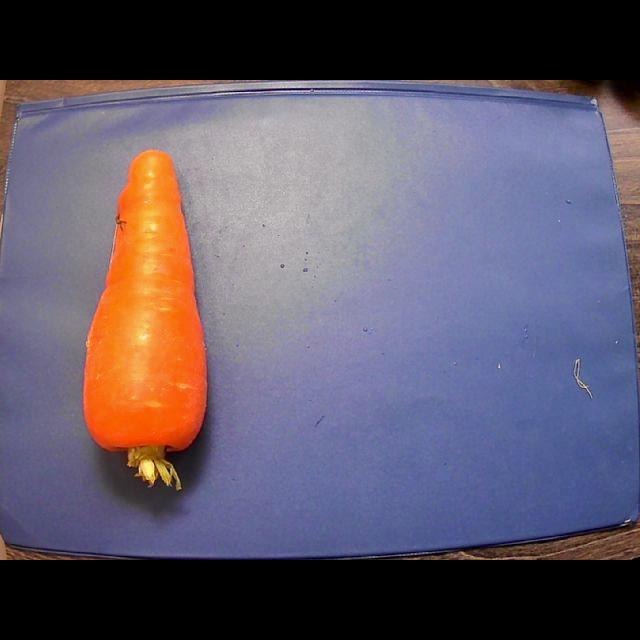zanahoria: (83, 151, 207, 489)
